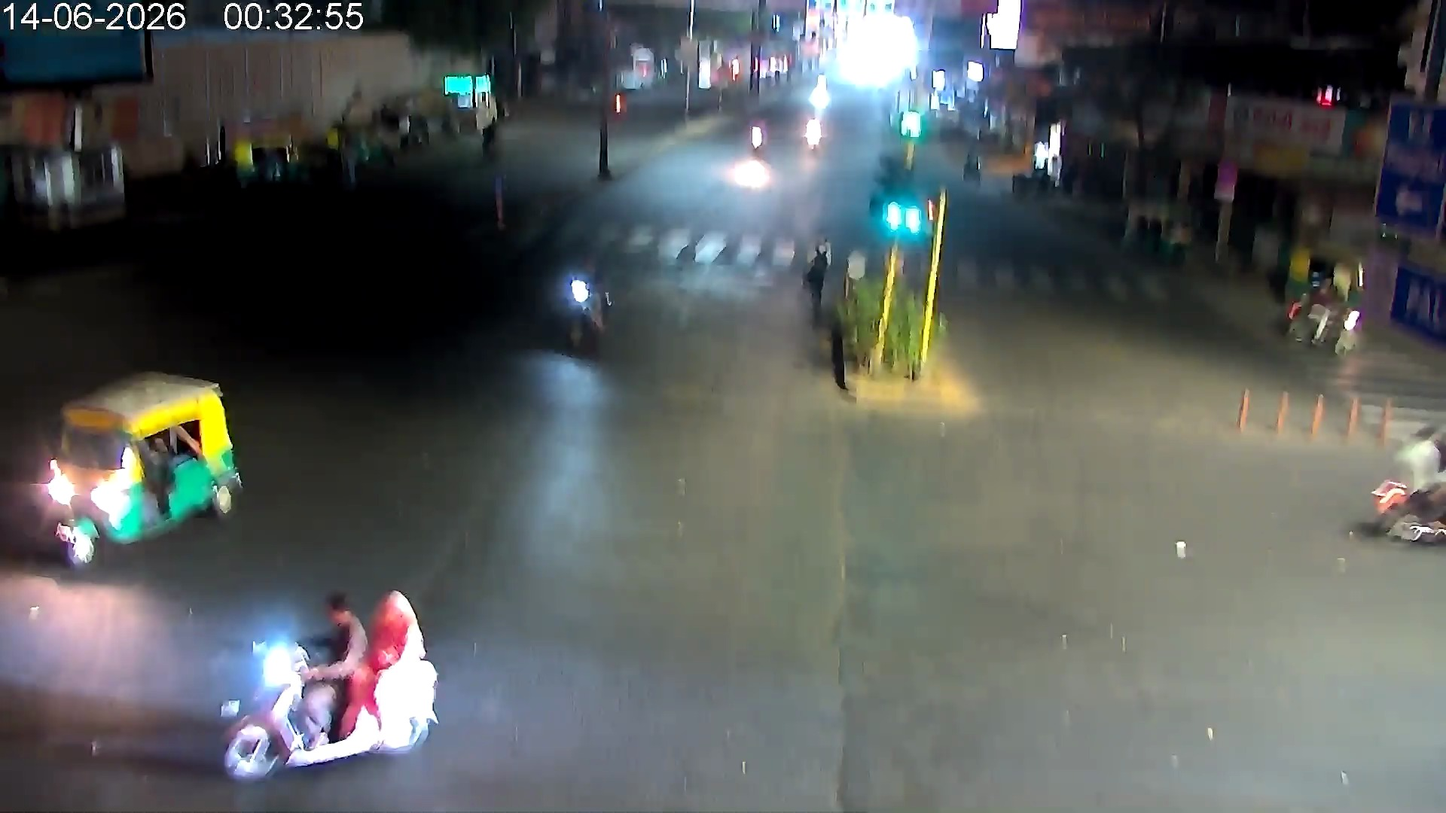auto_rickshaw: (27, 367, 248, 551), (1277, 243, 1369, 335)
two_wheeler: (215, 577, 453, 769), (1366, 409, 1446, 546), (742, 110, 772, 167)
